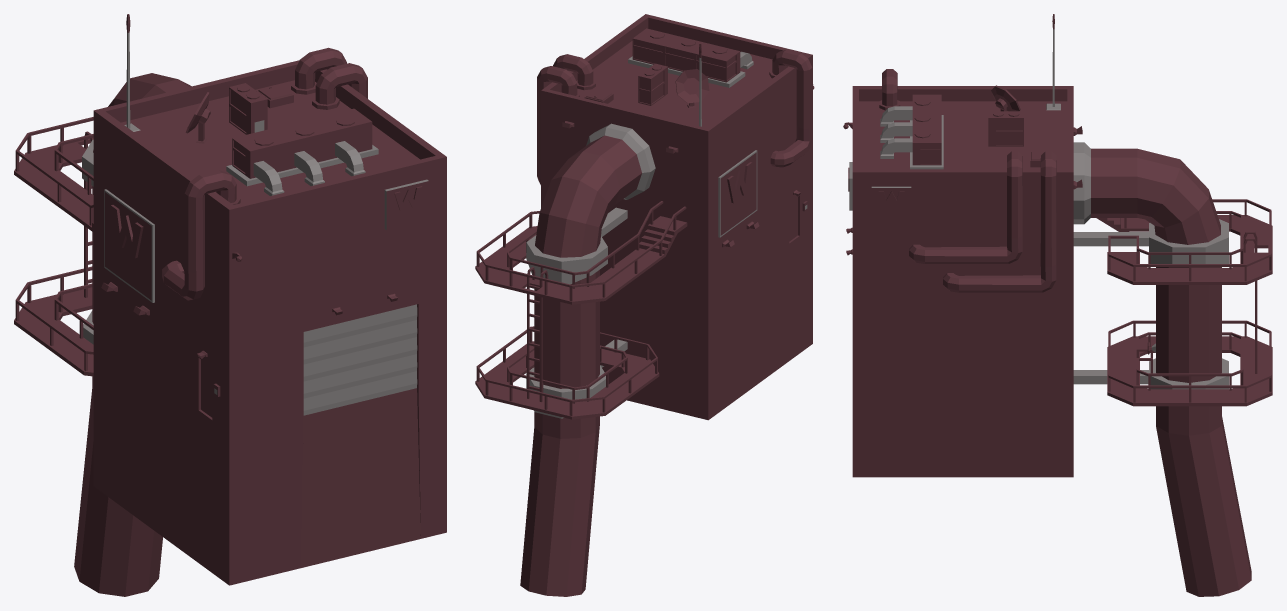
The model's file is water-station-small.fbx.
3 renders of one model, left to right at view 1: azimuth 30°, elevation 25°; view 2: azimuth 150°, elevation 25°; view 3: azimuth 270°, elevation 25°, orthographic. The views are drawn at different scales.
Visible parts, largest first — view 1: water-station-small; view 2: water-station-small; view 3: water-station-small.
Part boxes in pixels (bbox=[...]): water-station-small: bbox=[14, 14, 446, 596]; water-station-small: bbox=[475, 14, 814, 596]; water-station-small: bbox=[843, 14, 1272, 596].
Size of the model in its own units: 10.72 by 26.41 by 19.13.
